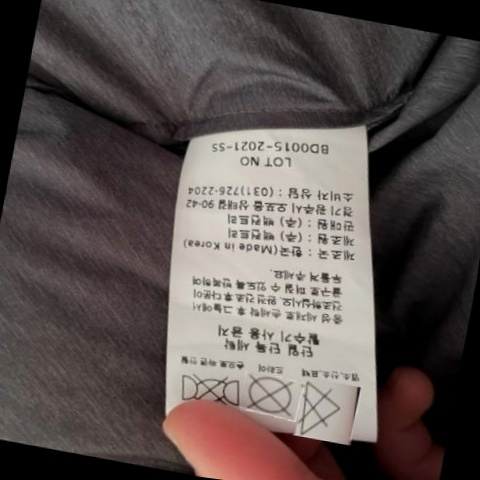DN_bleach: (295, 379, 355, 442)
DN_dry_clean: (245, 371, 297, 418)
DN_wring: (175, 363, 244, 410)
